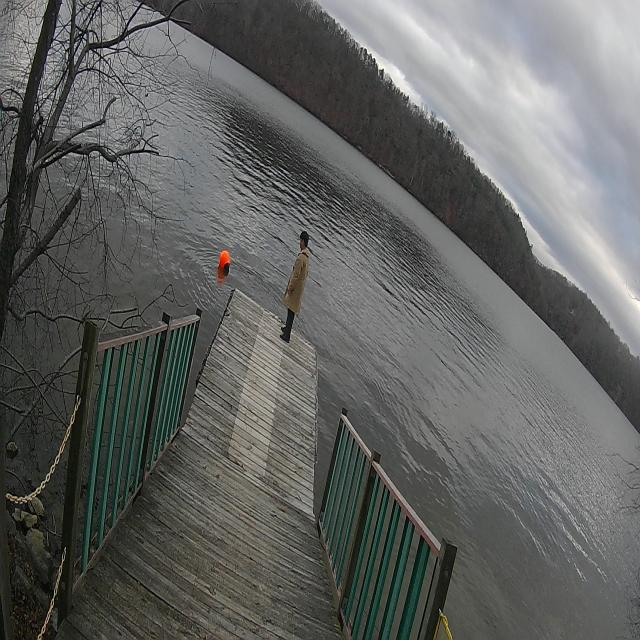Buoy: (217, 245, 232, 278)
